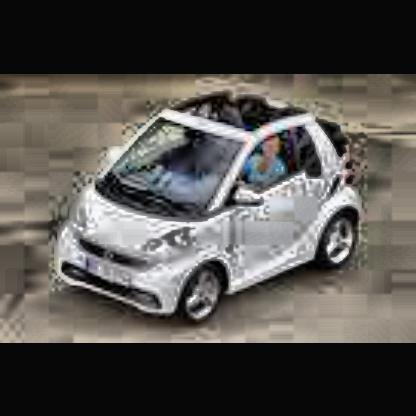smart fortwo Convertible 2012: (56, 90, 374, 325)
